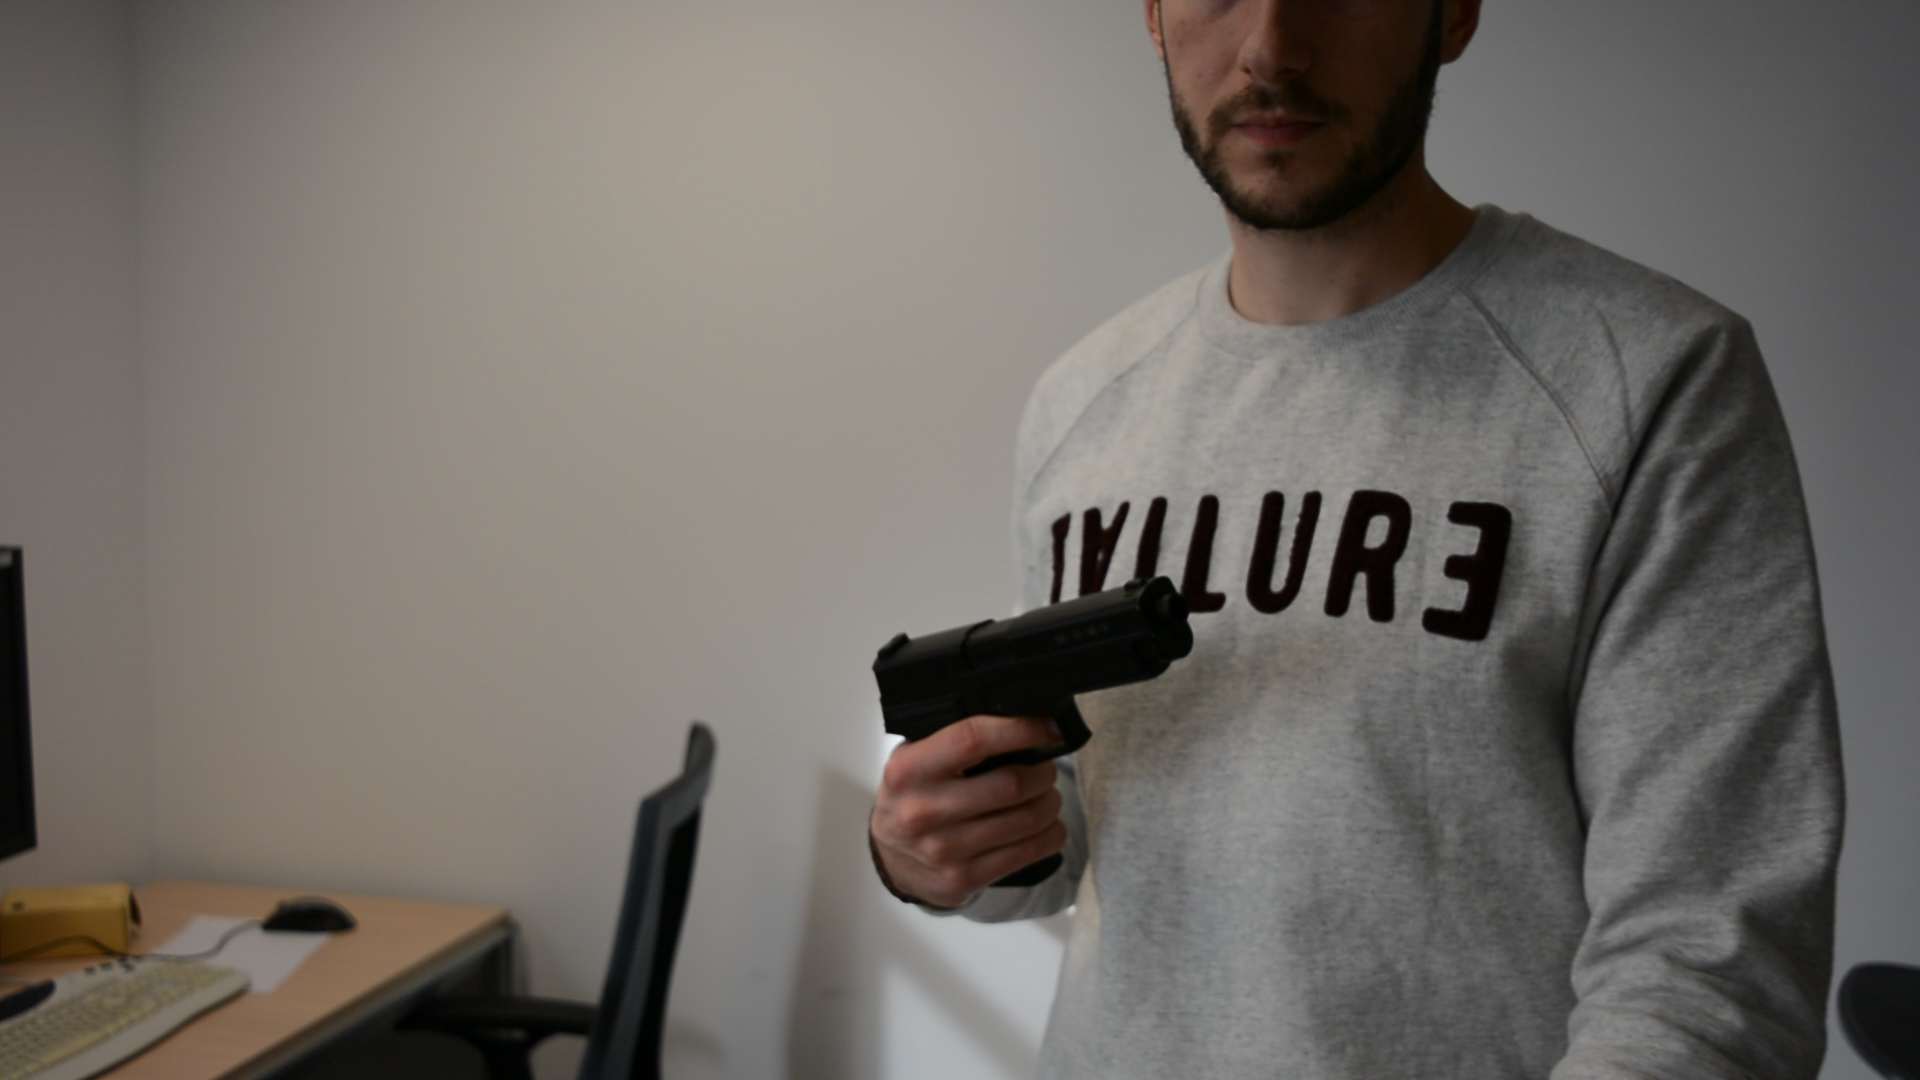pistol: (870, 574, 1195, 891)
